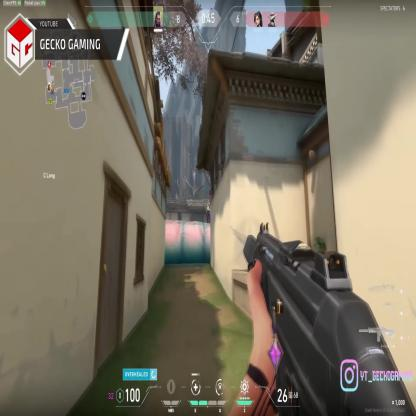enemy: (206, 198, 211, 222)
enemy_head: (207, 198, 210, 202)
